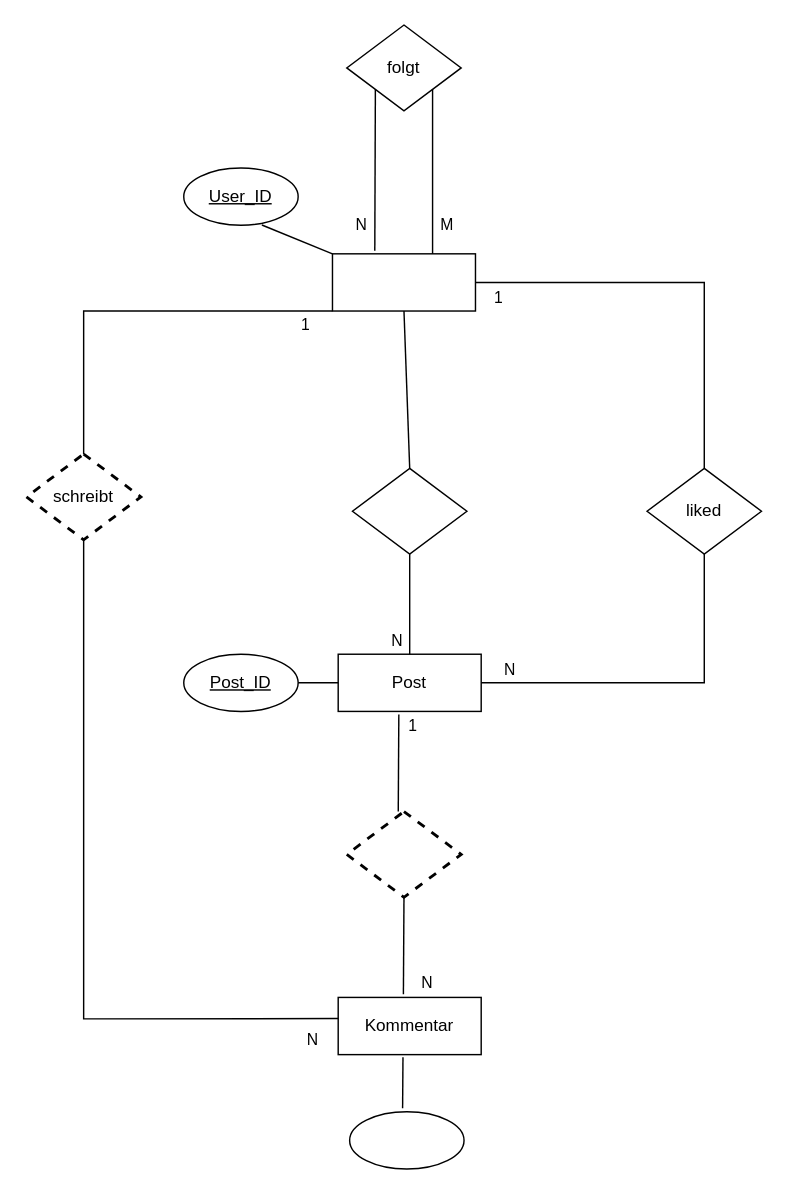
This 787x1194 diagram has some shape labels left out. Each missing label, with the box of its shape:
erstellt: (351, 467, 467, 554)
hat: (345, 809, 462, 898)
Komm_ID: (348, 1110, 464, 1169)
User: (331, 252, 475, 311)
